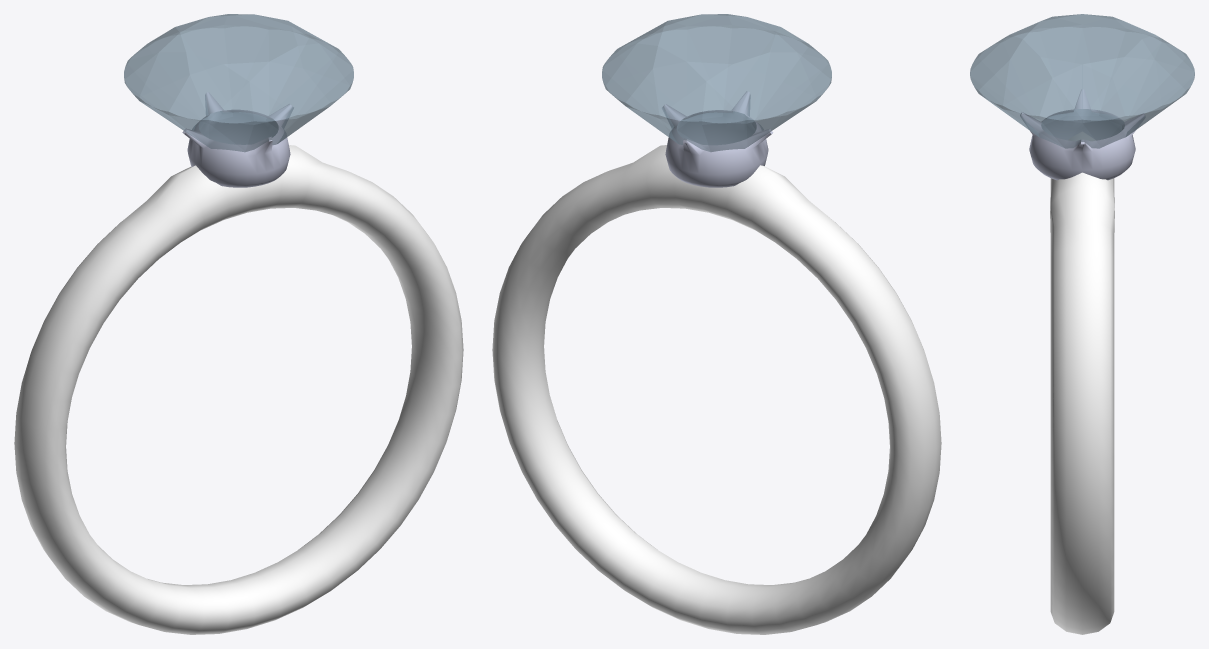
The model's file is 2ring.glb.
3 views of the same model, side by side, from view 1: azimuth 30°, elevation 25°; view 2: azimuth 150°, elevation 25°; view 3: azimuth 270°, elevation 25° (orthographic). The views are drawn at different scales.
Parts seen in each view (by area): view 1: Torus, dobj.000, Sphere; view 2: Torus, dobj.000, Sphere; view 3: Torus, dobj.000, Sphere.
Boxes of the visible parts, x1,y1,x2,y2 form: Torus: (14,145,463,634); dobj.000: (124,14,353,152); Sphere: (182,92,293,187); Torus: (492,145,941,634); dobj.000: (602,14,831,151); Sphere: (662,91,773,187); Torus: (1050,132,1114,634); dobj.000: (970,14,1194,148); Sphere: (1020,89,1144,180).
Bounding box in the file's own units: 5.52 × 7.06 × 2.51.
